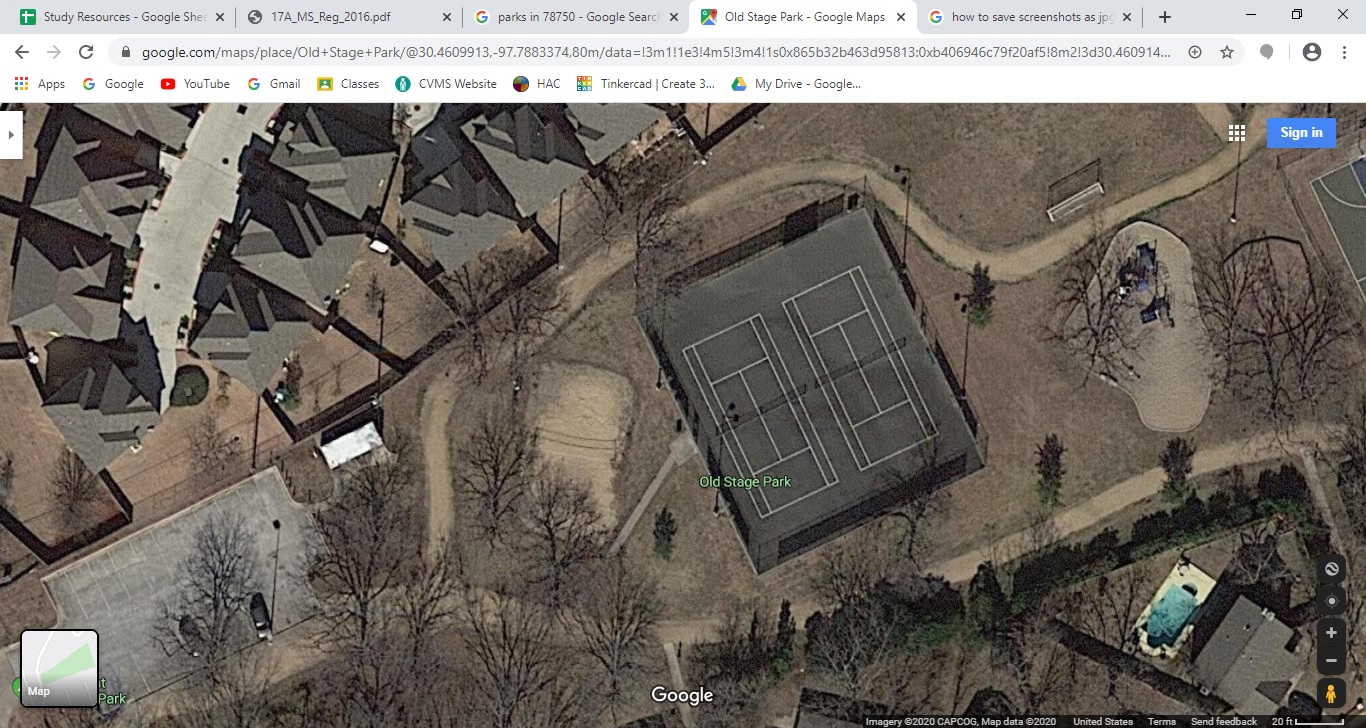tennis: (674, 320, 838, 538)
